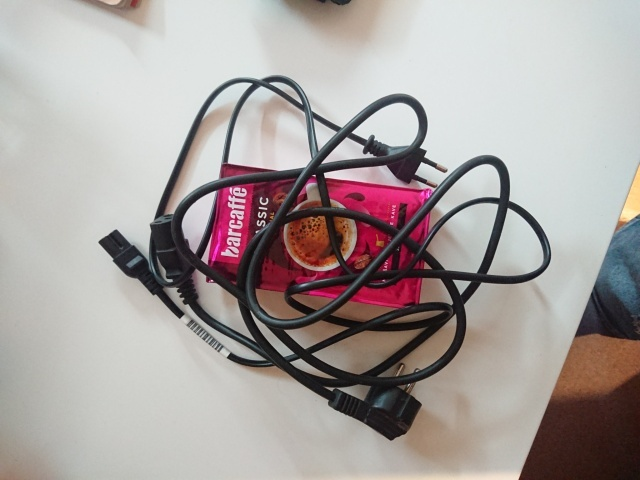Barcaffe Classic Original 225g: (204, 161, 434, 311)
